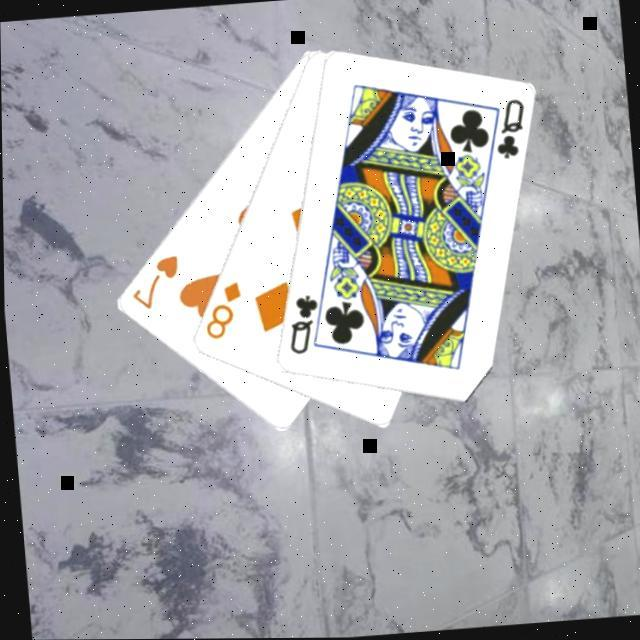7H: (124, 252, 185, 316)
8D: (198, 279, 248, 345)
QC: (281, 292, 325, 360), (488, 97, 532, 165)
